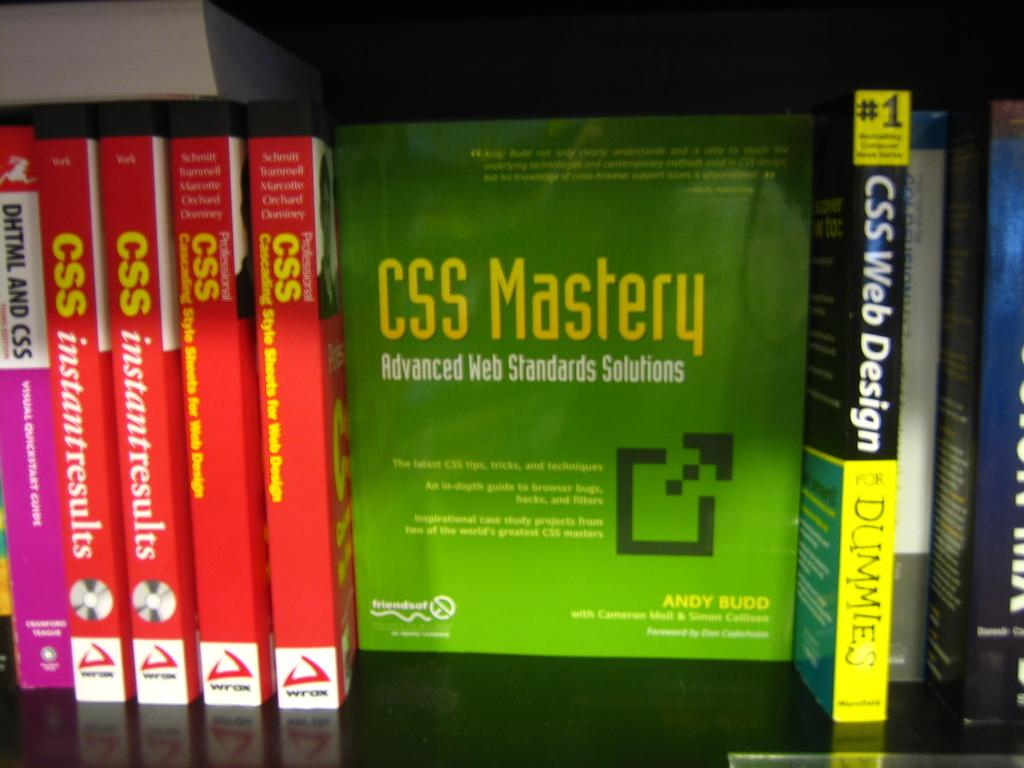Book: (331, 112, 812, 663), (792, 88, 911, 723), (246, 99, 357, 710), (168, 99, 275, 707), (97, 99, 200, 705), (32, 102, 132, 703), (0, 124, 72, 691), (961, 99, 1023, 728), (888, 109, 948, 683)
